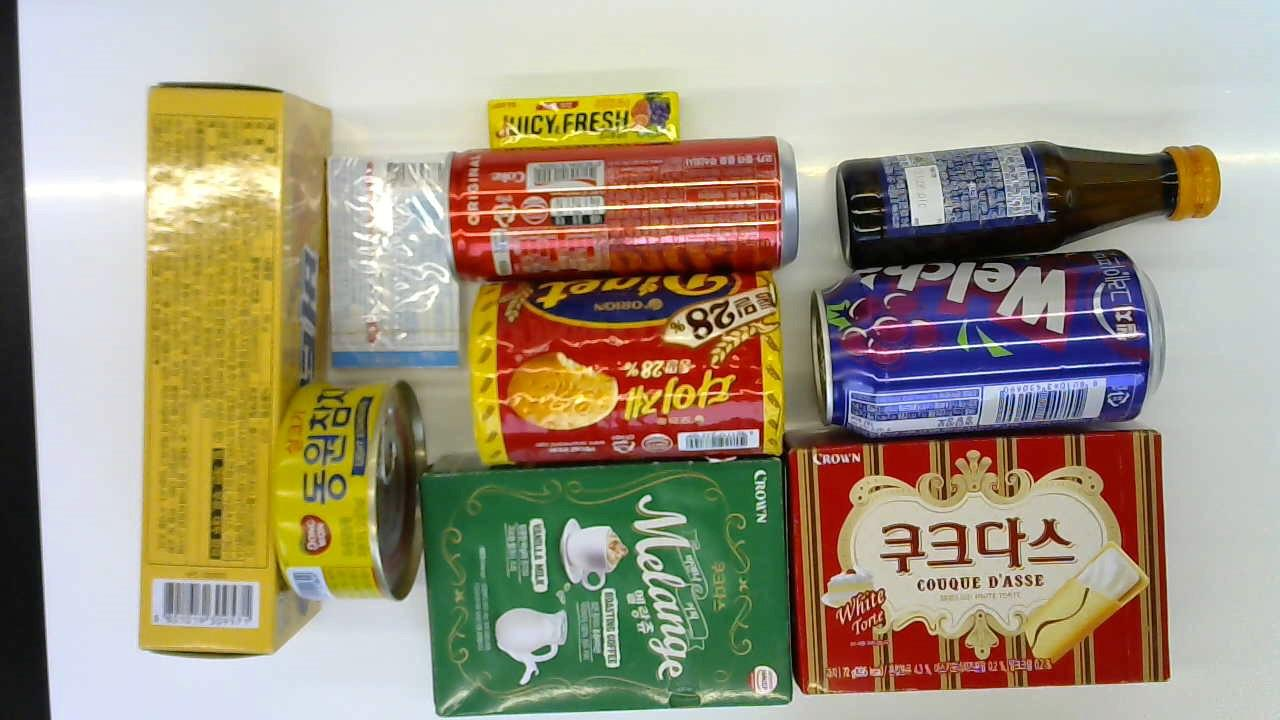ID_gum: (323, 143, 468, 371)
buttering: (134, 79, 326, 665)
coke: (443, 130, 808, 283)
couque_coffee: (418, 448, 795, 713)
couque_white: (779, 429, 1173, 695)
diget_ori: (456, 264, 799, 458)
juicyfresh: (479, 82, 687, 150)
tuna: (267, 371, 430, 605)
vita500: (829, 140, 1220, 255)
welchs: (809, 241, 1166, 433)
